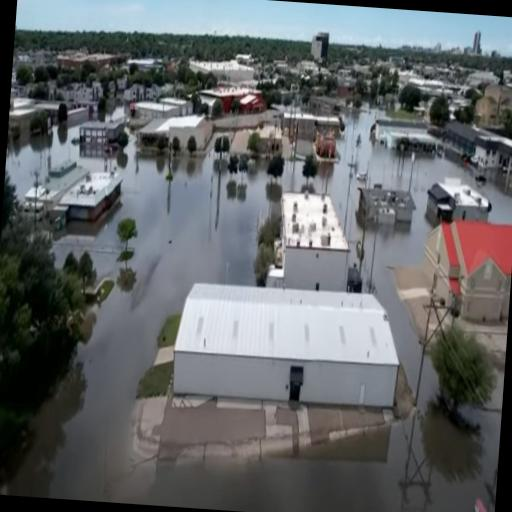flood: (0, 137, 502, 512), (373, 156, 473, 388), (375, 153, 475, 286), (314, 109, 411, 222), (327, 107, 411, 222), (5, 125, 81, 199), (480, 178, 512, 222)
house: (420, 220, 512, 323), (268, 190, 354, 290), (440, 120, 512, 190), (58, 164, 122, 238), (19, 153, 83, 219), (426, 172, 494, 234), (367, 112, 444, 164), (351, 182, 416, 242), (164, 112, 214, 166), (77, 112, 124, 154), (129, 96, 181, 128), (8, 95, 34, 143), (236, 90, 266, 122), (308, 29, 330, 65), (464, 27, 486, 62)
